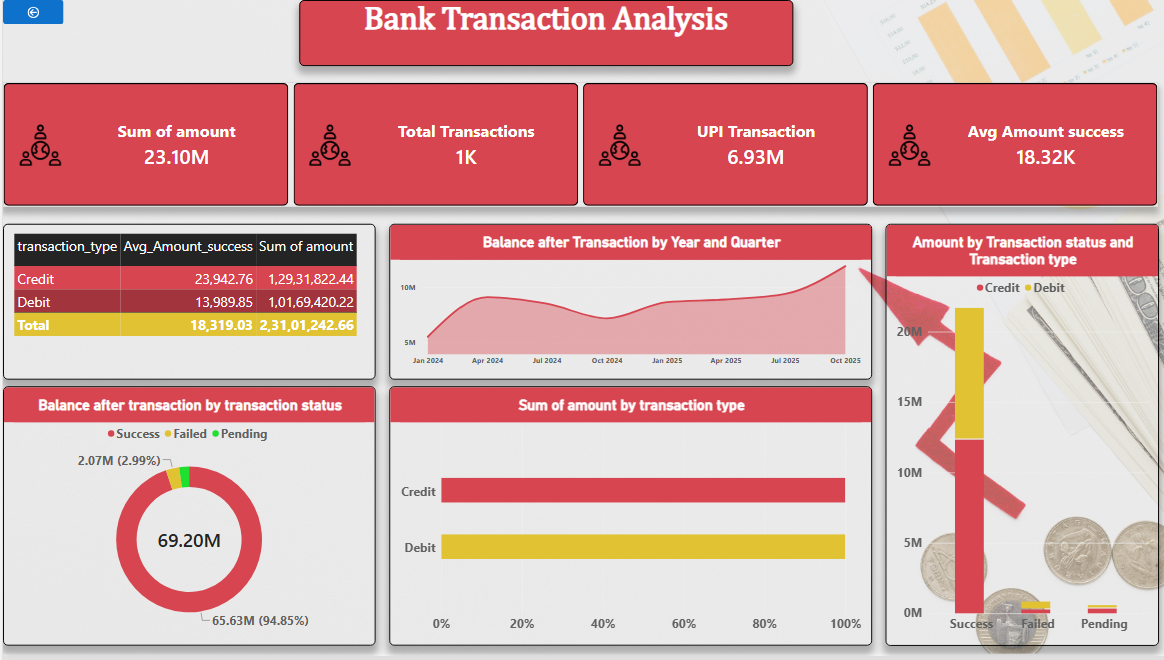

The dashboard page shown, as its layout file describes it:
{"tool":"powerbi","page":{"name":"Bank Transaction","canvas":[1920,1080],"ordinal":3},"visuals":[{"type":"textbox","box":[488.6,0,813.6,109.1],"z":0},{"type":"actionButton","box":[0,0,100,40],"z":1000},{"type":"cardVisual","fields":{"Data":["Sum(bank_transactions.amount)","account_holders.Total Transactions","bank_transactions.UPI Transaction","account_holders.Avg_Amount_success"]},"box":[0,136.4,1902.3,204.5],"z":2000},{"type":"tableEx","fields":{"Values":["bank_transactions.transaction_type","account_holders.Avg_Amount_success","Sum(bank_transactions.amount)"]},"box":[0,368.2,613.6,256.8],"z":3000},{"type":"donutChart","title":"Balance after transaction by transaction status","fields":{"Category":["bank_transactions.transaction_status"],"Y":["Sum(bank_transactions.balance_after_transaction)"]},"box":[0,636.4,613.6,427.3],"z":4000},{"type":"areaChart","fields":{"Category":["bank_transactions.transaction_date.Variation.Date Hierarchy.Year","bank_transactions.transaction_date.Variation.Date Hierarchy.Quarter"],"Y":["Sum(bank_transactions.balance_after_transaction)"]},"box":[636.4,368.2,795.5,256.8],"z":5000},{"type":"columnChart","fields":{"Category":["bank_transactions.transaction_status"],"Series":["bank_transactions.transaction_type"],"Y":["Sum(bank_transactions.amount)"]},"box":[1452.3,368.2,450,695.5],"z":6000},{"type":"hundredPercentStackedBarChart","fields":{"Category":["bank_transactions.transaction_type"],"Y":["Sum(bank_transactions.amount)"]},"box":[636.4,636.4,795.5,427.3],"z":7000}]}

Visuals, with their boxes in screenshot pixels (x1, y1, x2, y2), scaled from the page's 1920x1080 canvas onto the 1164x660 screenshot:
textbox: 296, 0, 789, 67
actionButton: 0, 0, 61, 24
cardVisual - Sum(bank_transactions.amount) x account_holders.Total Transactions: 0, 83, 1153, 208
tableEx - bank_transactions.transaction_type x account_holders.Avg_Amount_success: 0, 225, 372, 382
"Balance after transaction by transaction status" donutChart: 0, 389, 372, 650
areaChart - bank_transactions.transaction_date.Variation.Date Hierarchy.Year x bank_transactions.transaction_date.Variation.Date Hierarchy.Quarter: 386, 225, 868, 382
columnChart - bank_transactions.transaction_status x bank_transactions.transaction_type: 880, 225, 1153, 650
hundredPercentStackedBarChart - bank_transactions.transaction_type x Sum(bank_transactions.amount): 386, 389, 868, 650
